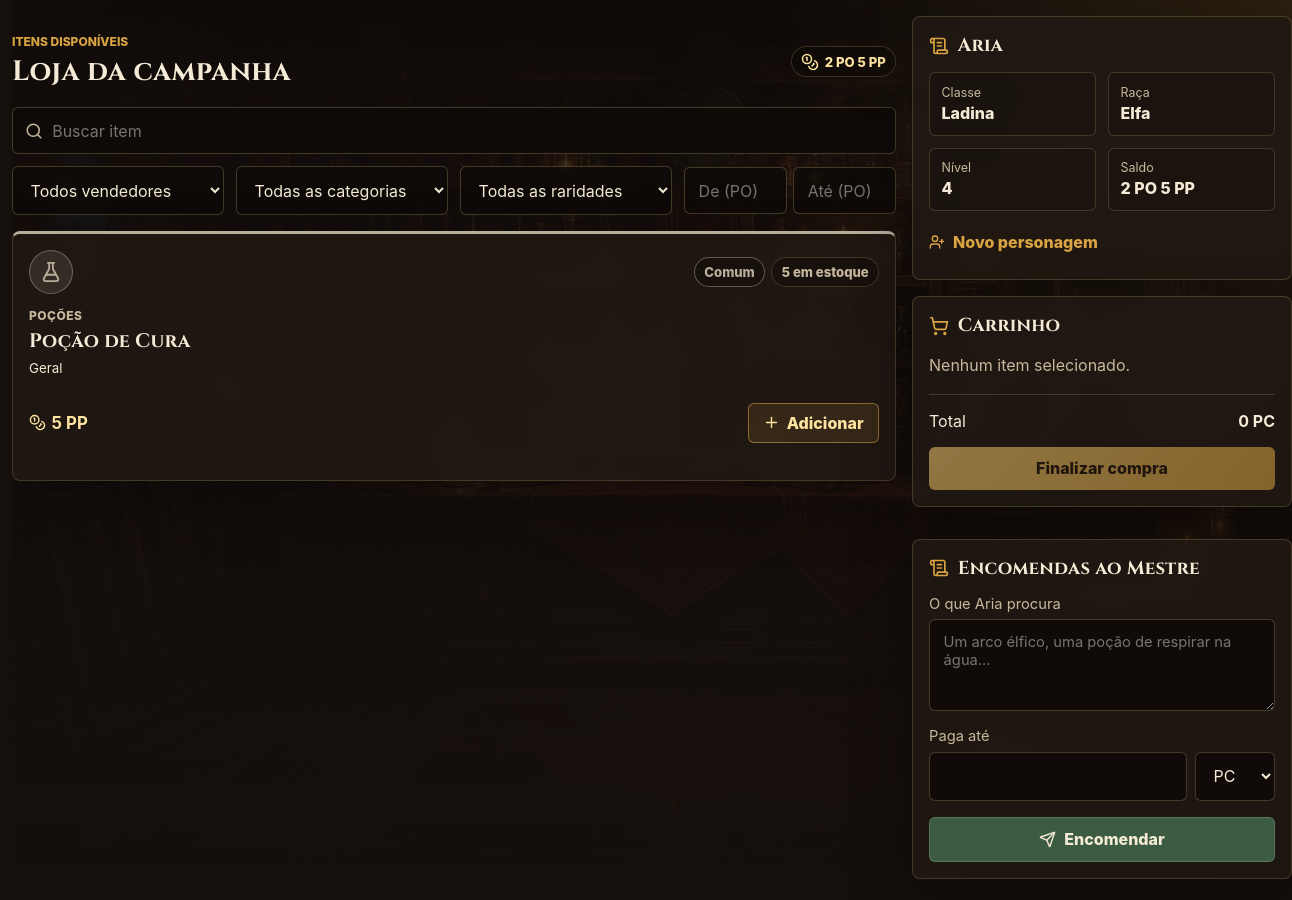
Test: ShopPage › não manda faixa de preço inválida ou invertida
Expected: the heading "Poção de Cura" is shown, [29,328,191,354]
Step 1. Type "50" into the field named "Preço mínimo em PO" → (735, 191), box [684,167,787,214]
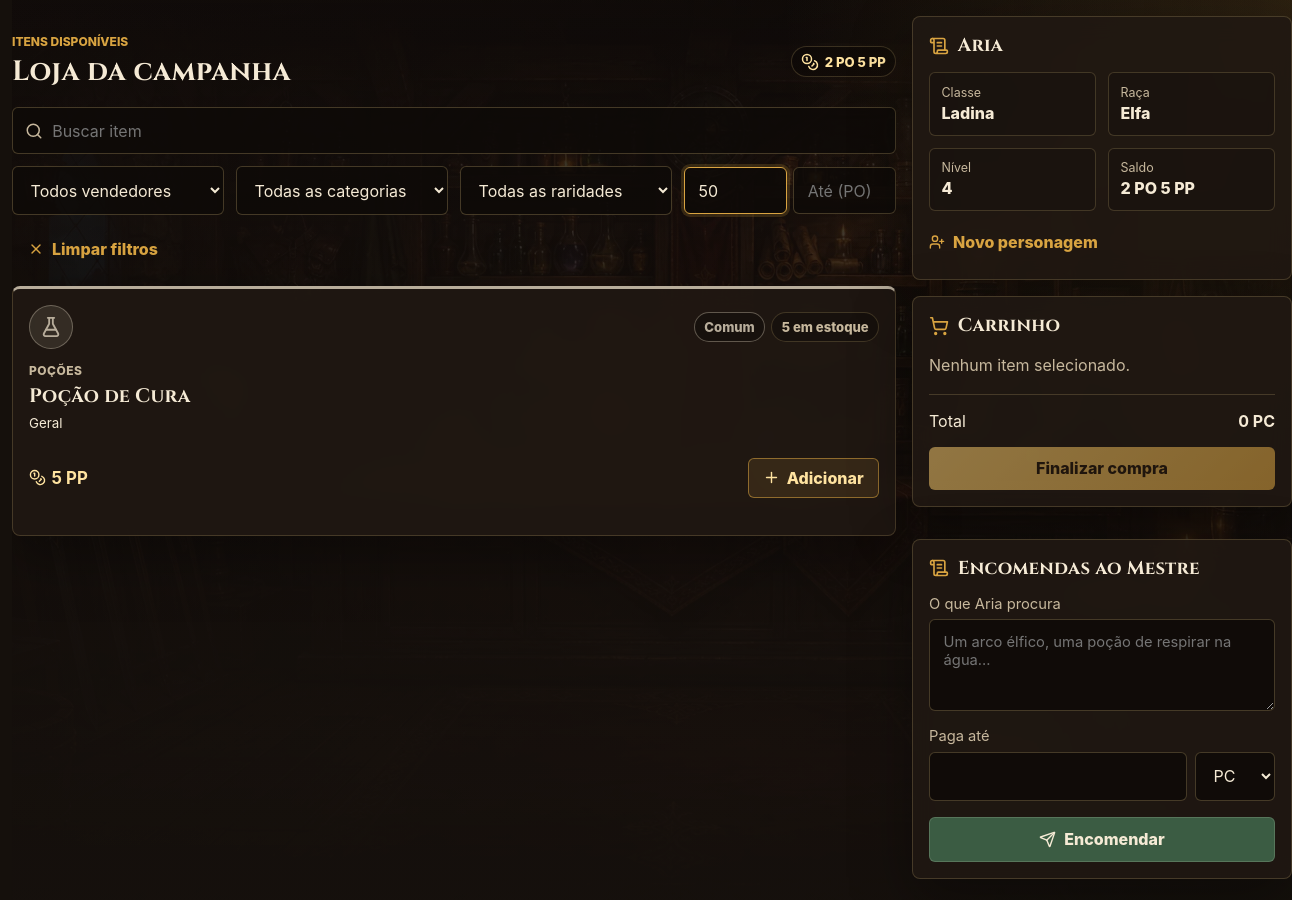
Step 2. Type "10" into the field named "Preço máximo em PO" → (845, 191), box [793,167,896,214]
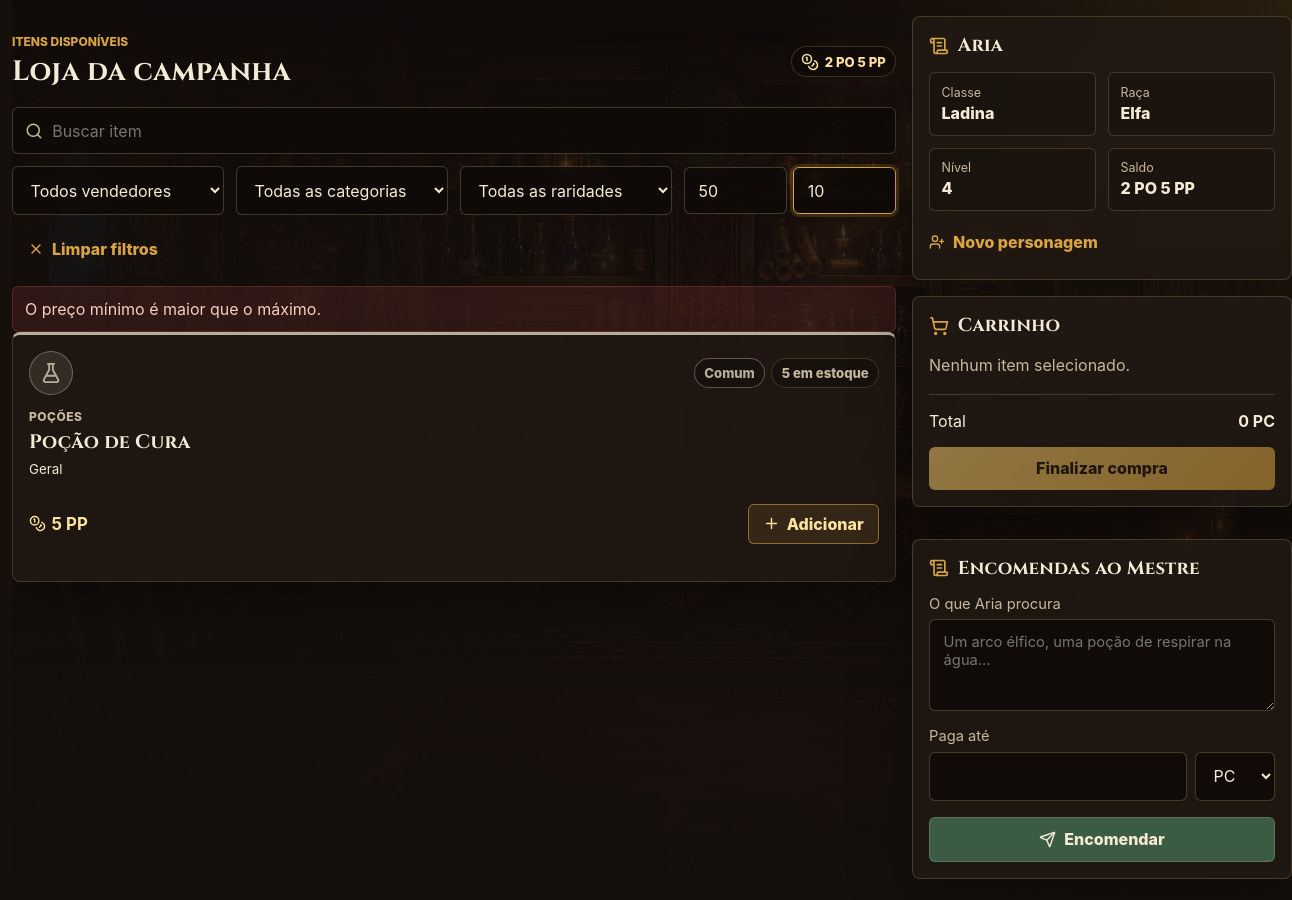
Expected: the message reads "O preço mínimo é maior que o máximo.", [25,299,321,319]
Step 3. Replace the text in the field named "Preço máximo em PO" with "0,001" → (845, 191), box [793,167,896,214]
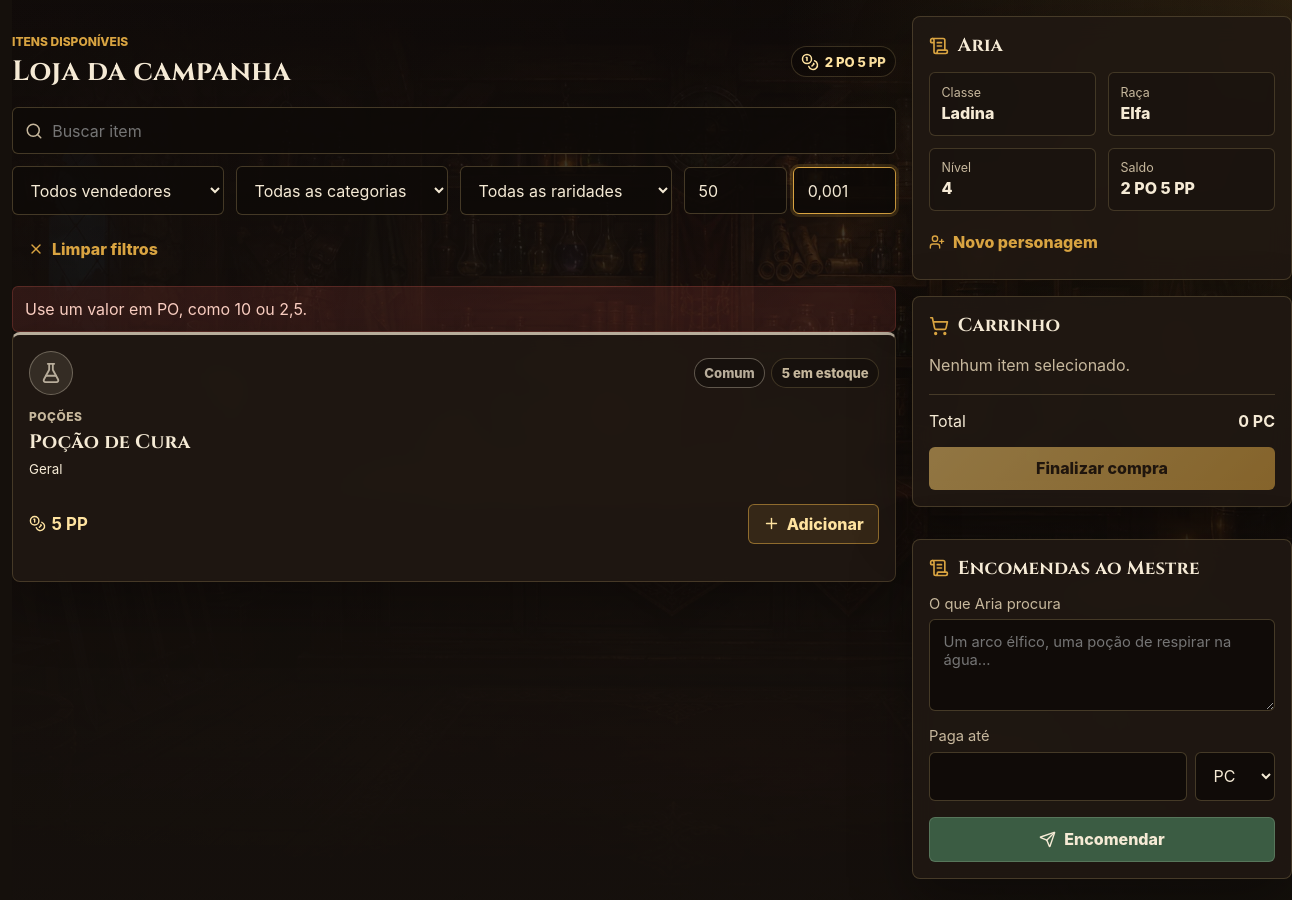
Expected: the message shows "Use um valor em PO", [25,299,307,319]
Acima do teto da API: o aviso diz o limite em PO, sem ir para a API.
Step 4. Replace the text in the field named "Preço máximo em PO" with "2000000" → (845, 191), box [793,167,896,214]
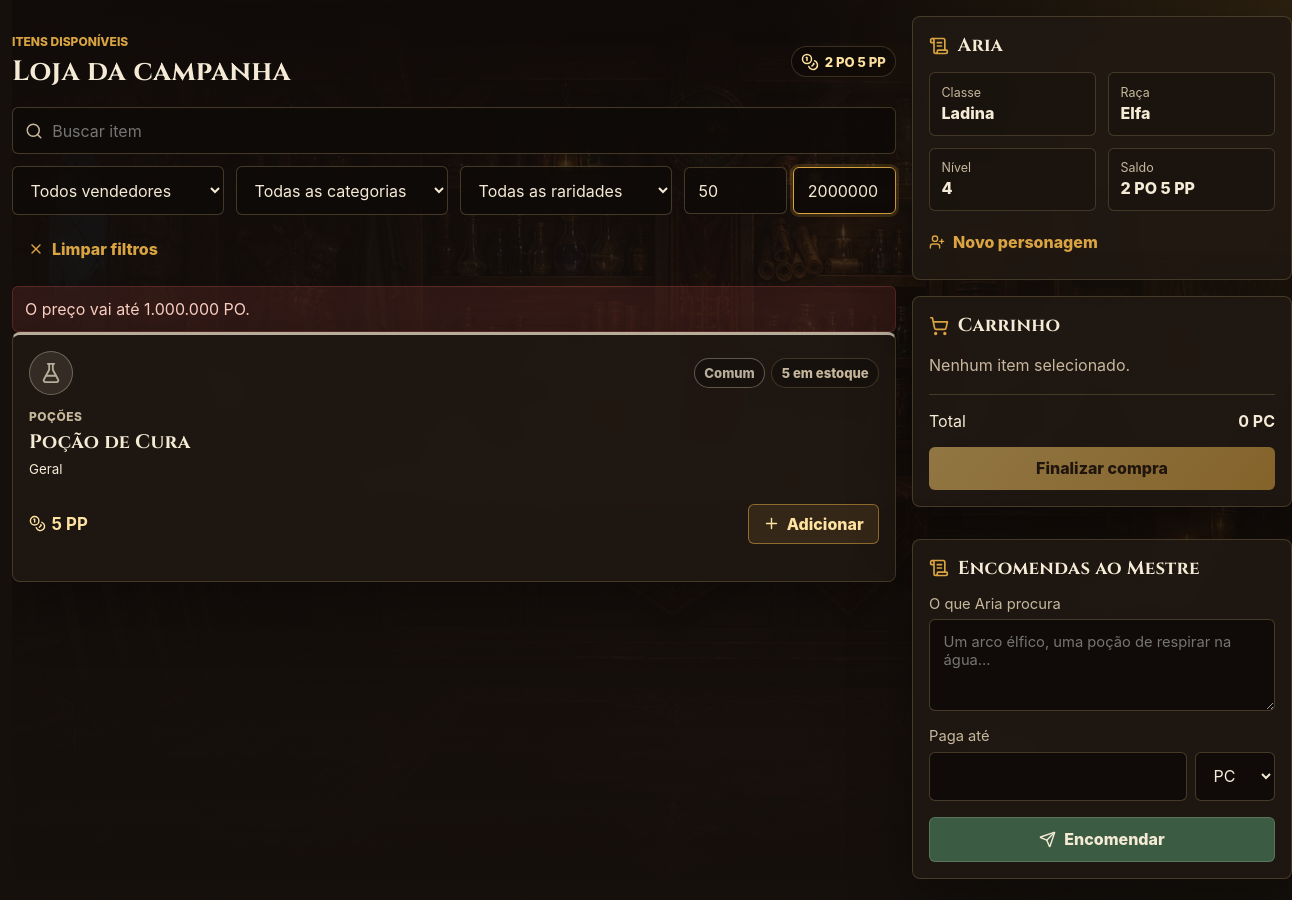
Expected: the message reads "O preço vai até 1.000.000 PO.", [25,299,250,319]
